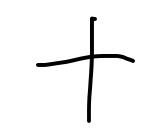plus: (34, 15, 135, 120)
